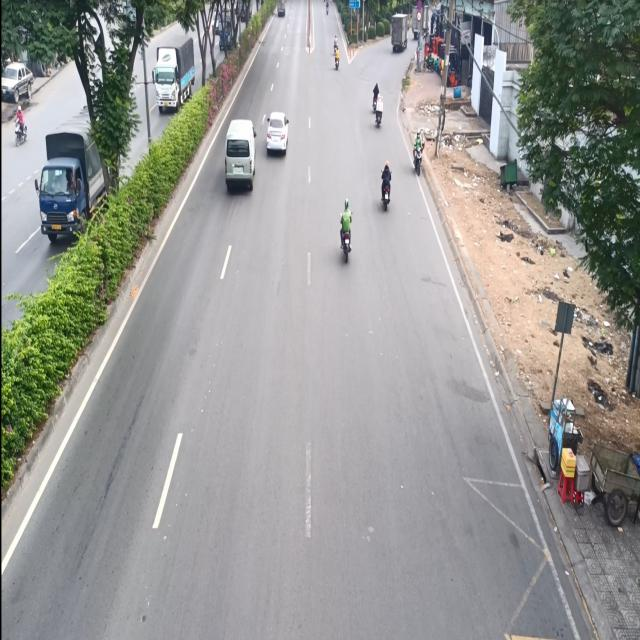car: (224, 113, 256, 198), (266, 103, 288, 160)
motorbike: (338, 190, 354, 264), (376, 158, 394, 218), (409, 124, 427, 184)
